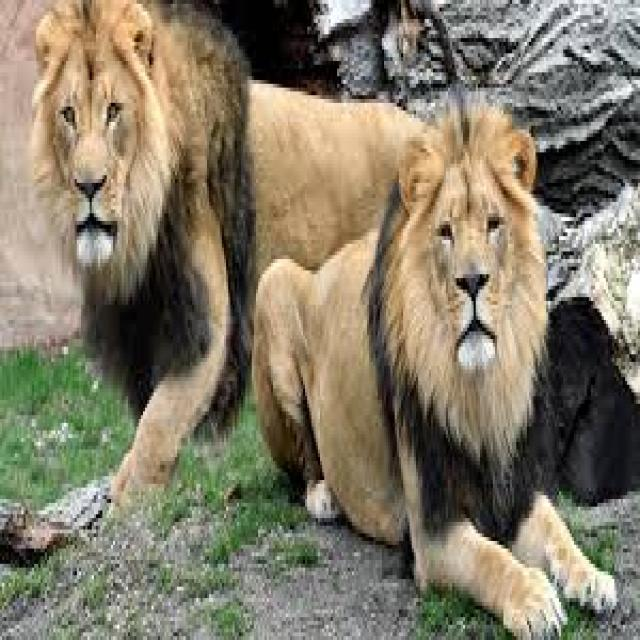Lion: (253, 98, 619, 636), (29, 2, 421, 501)
